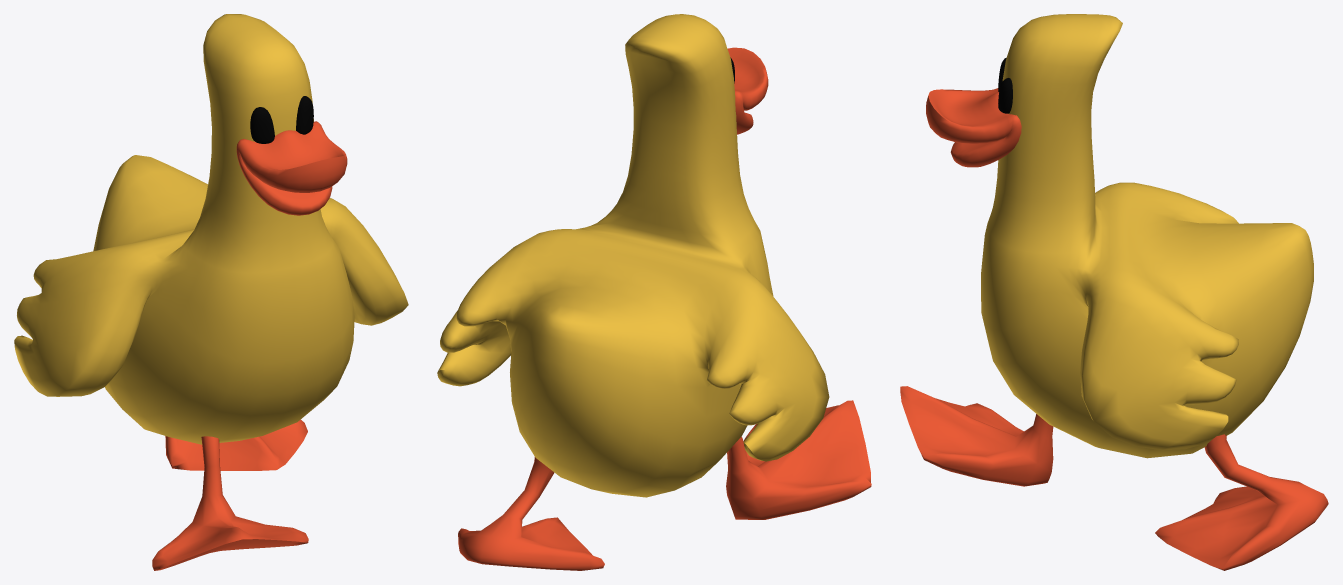
The model's file is duck_duck_duck.glb.
3 renders of one model, left to right at view 1: azimuth 30°, elevation 25°; view 2: azimuth 150°, elevation 25°; view 3: azimuth 270°, elevation 25°, orthographic.
Visible parts, largest first — view 1: Duck; view 2: Duck; view 3: Duck.
Boxes of the visible parts, x1,y1,x2,y2 form: Duck: [14, 14, 408, 570]; Duck: [437, 14, 871, 570]; Duck: [900, 14, 1328, 570].
Size of the model in its own units: 1.35 by 1.86 by 1.47.
1 material, 1 textured.
